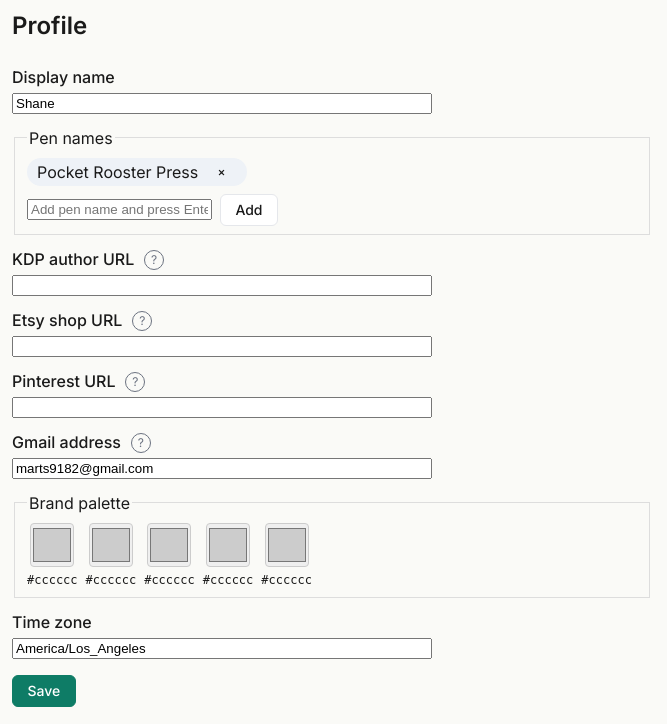
Profile › lets the user add a pen name by pressing Enter
This screenshot has width=667, height=724.
Expected: the field labelled "Display name" is shown, [12,93,432,114]
Type "Seven Martin" into the field labelled "Add pen name and press Enter" at (120, 210), box [27,199,212,220]
Then press Enter
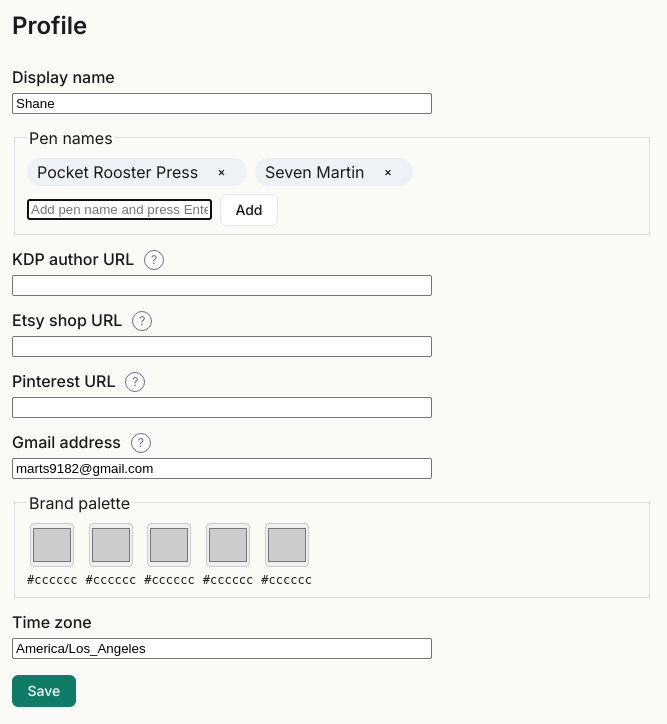
Expected: the text "Seven Martin" is shown, [265,160,364,184]
